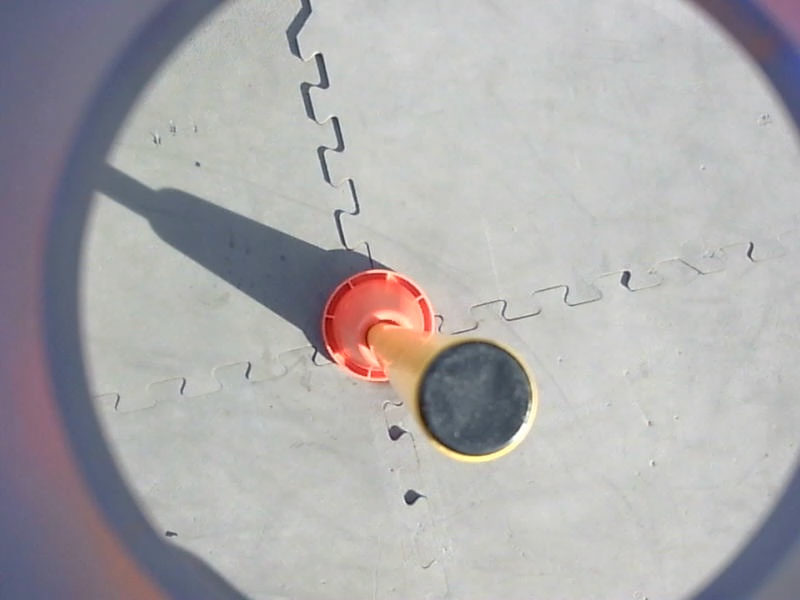tip: (406, 334, 543, 470)
